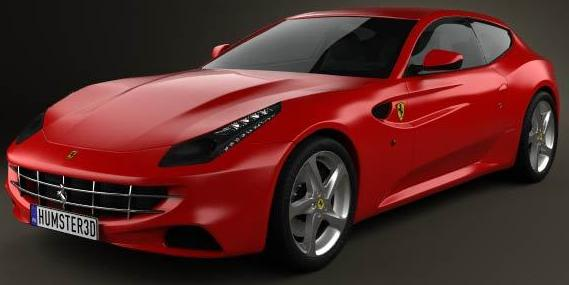front_view: (12, 86, 278, 260)
headlight: (155, 86, 292, 174)
side_glass: (404, 20, 503, 77)
